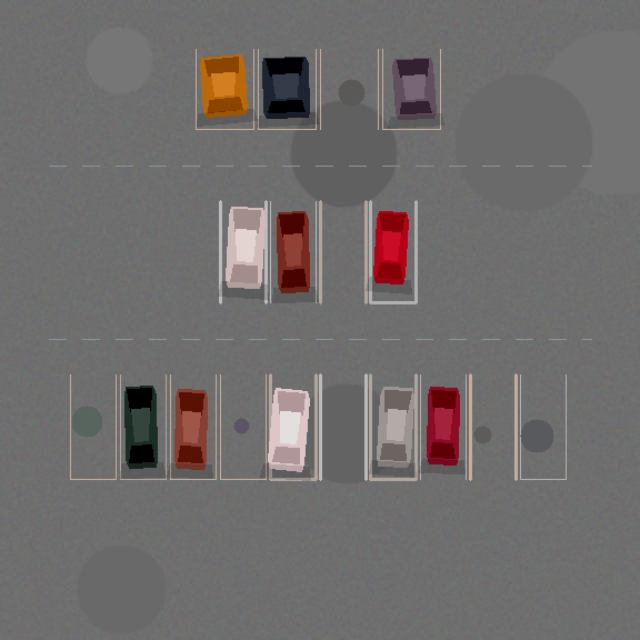space-empty: (70, 374, 116, 479), (220, 374, 266, 479), (320, 374, 366, 479), (470, 374, 516, 479), (520, 374, 566, 479), (320, 201, 366, 302), (320, 49, 378, 129)
space-occupied: (120, 374, 166, 479), (170, 374, 216, 479), (270, 374, 316, 479), (370, 374, 416, 479), (420, 374, 466, 479), (220, 201, 266, 302), (270, 201, 316, 302), (370, 201, 416, 302), (258, 49, 316, 129), (382, 49, 440, 129), (196, 49, 253, 129)
